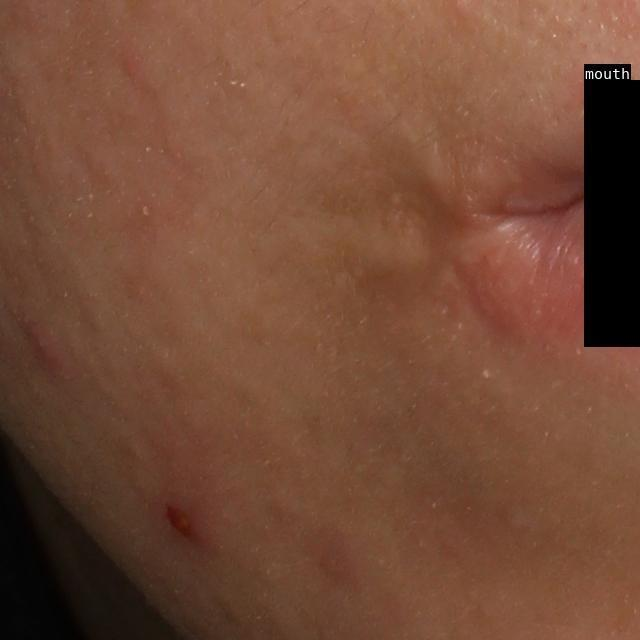papule: (161, 491, 226, 562), (18, 311, 68, 376)
